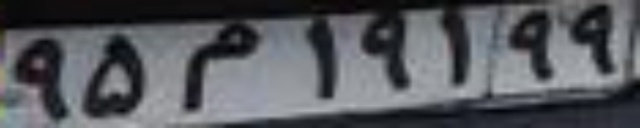1: (304, 15, 337, 100), (438, 7, 468, 85)
5: (78, 33, 145, 116)
9: (12, 36, 70, 121), (357, 10, 413, 90), (509, 10, 553, 79), (569, 5, 613, 73)
mim: (182, 23, 266, 112)
